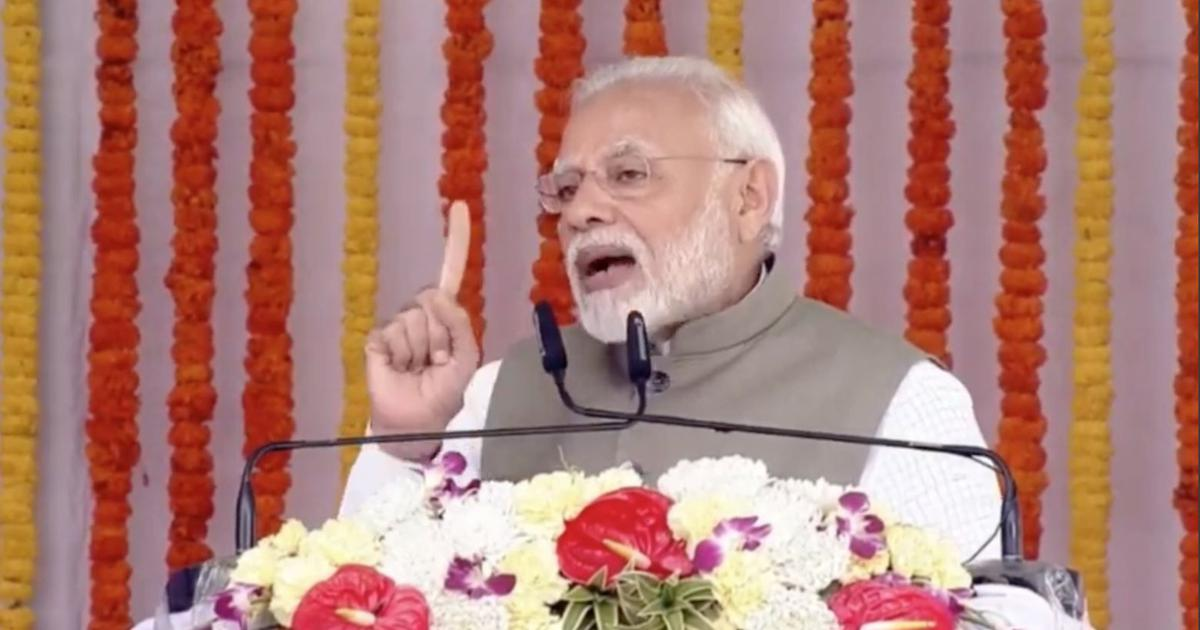modi: (509, 51, 815, 461)
